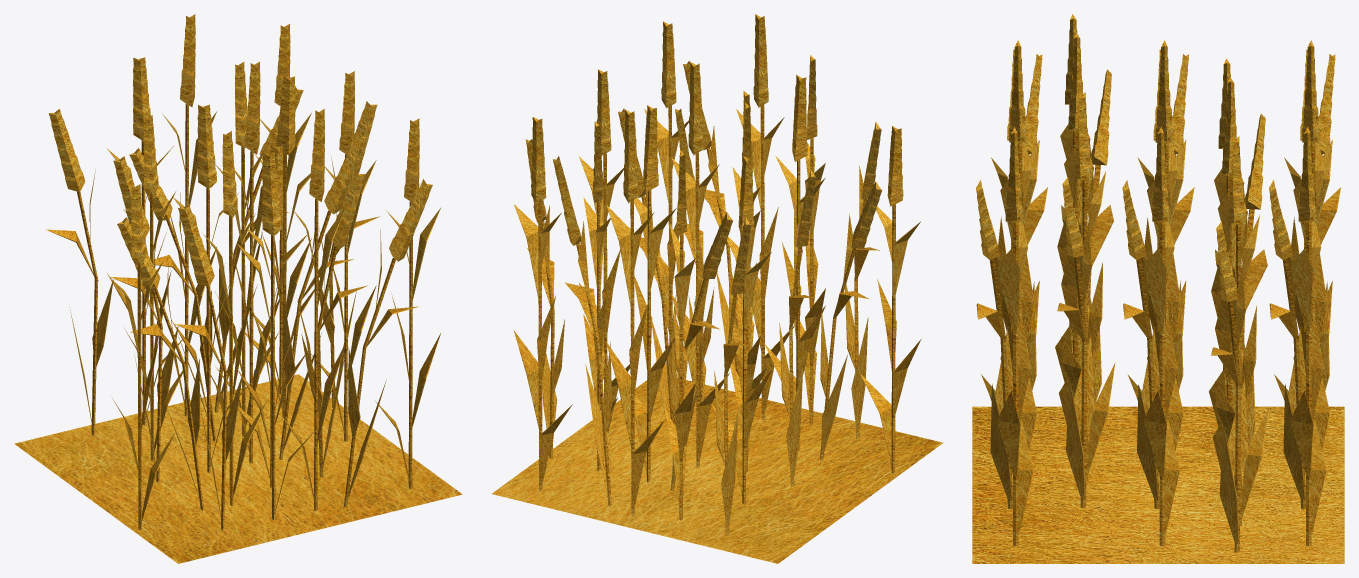
The model's file is RyeLong.fbx.
The picture shows the model from 3 angles, left to right: view 1: azimuth 30°, elevation 25°; view 2: azimuth 150°, elevation 25°; view 3: azimuth 270°, elevation 25°; orthographic projection. The views are drawn at different scales.
Visible parts, largest first — view 1: Plane; view 2: Plane; view 3: Plane.
Boxes of the visible parts, bbox=[...] form: Plane: bbox=[14, 14, 462, 563]; Plane: bbox=[492, 14, 943, 563]; Plane: bbox=[972, 14, 1344, 563].
Bounding box in the file's own units: 233 × 269 × 200.
1 material, 1 textured.
